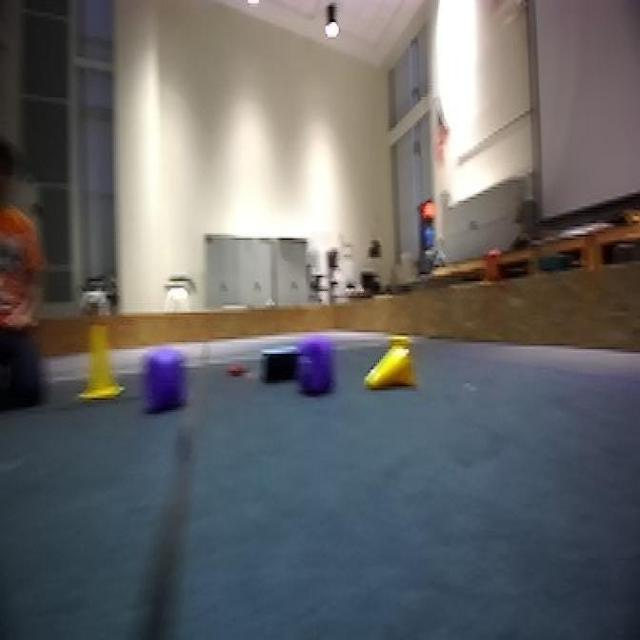frc_cone: (74, 315, 122, 407), (366, 330, 422, 402)
frc_cube: (296, 336, 336, 398), (144, 354, 185, 409)
